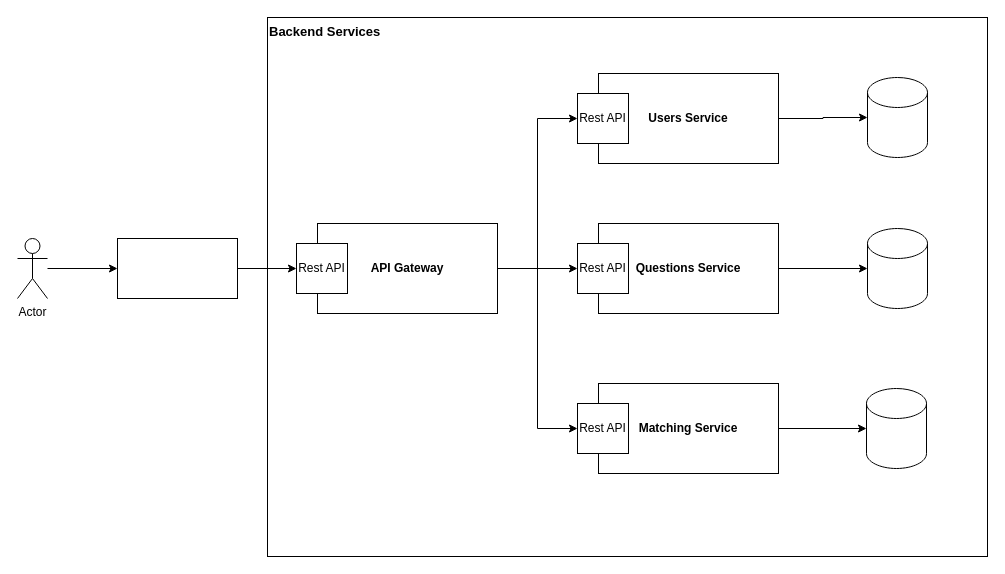
This 1005x574 diagram has some shape labels left out. The centre of each missing label's shape, as x and y in pixels:
"Frontend Web UI" belongs at [177,268].
"Questions Database" belongs at [897,268].
"RMQ Server" belongs at [896,428].
"Users Database" belongs at [897,117].
